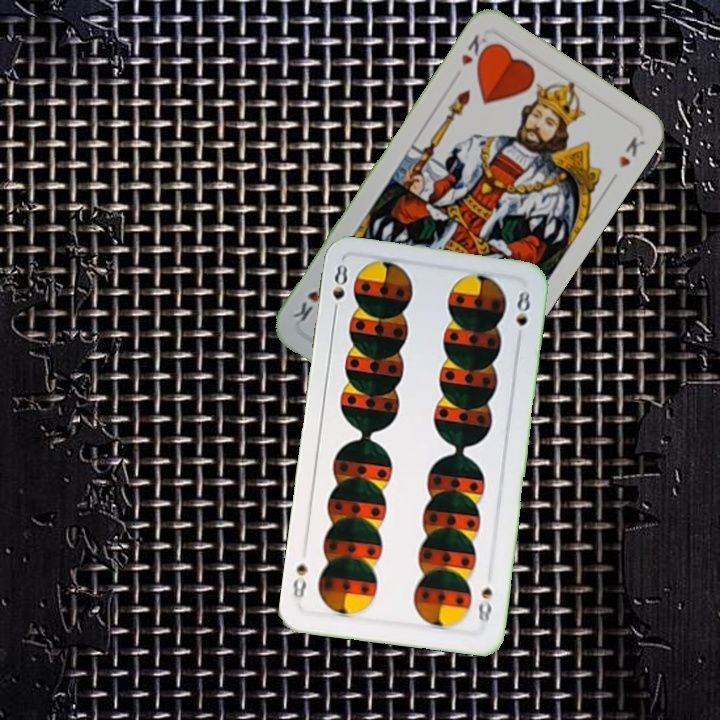HK: (457, 30, 494, 70)
S8: (329, 261, 350, 319), (474, 583, 495, 625)
